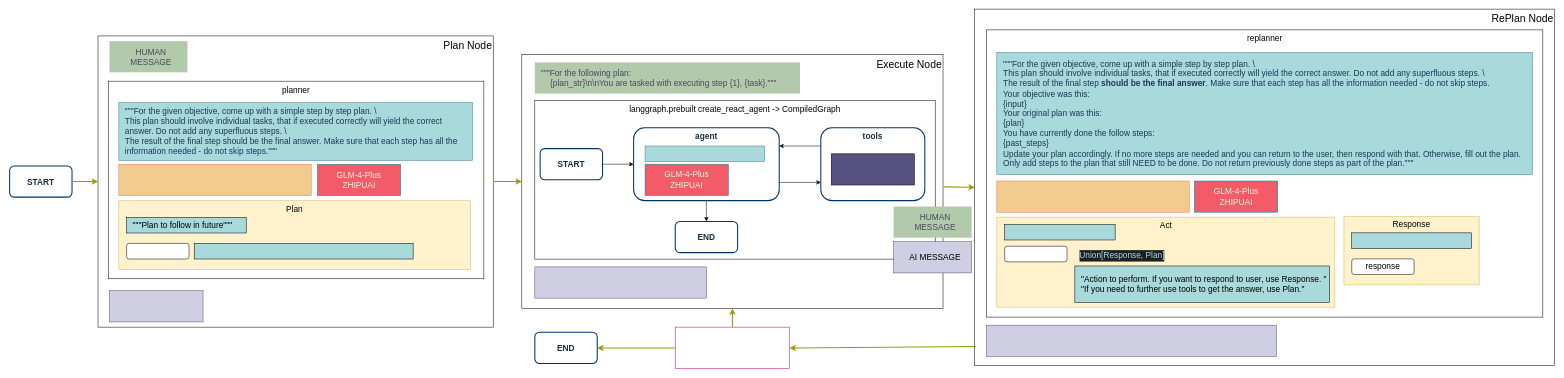
This 1564x378 diagram has some shape labels left out. The centre of each missing label's shape, as x and y in pixels:
"""Action to perform.""": point (1059, 232)
"""Response to user.""": point (1411, 240)
"past_steps": [(task, execute_result)]: point (620, 282)
action: point (1035, 254)
different steps to follow, should be in sorted order: point (303, 251)
prompt | llm.with_structured_output(Act): point (1092, 196)
prompt | llm.with_structured_output(Plan): point (214, 180)
Should end: point (732, 348)
steps: point (157, 251)
TavilySearch: point (872, 169)
You are a helpful assistant.: point (705, 153)
{"plan": plan.steps}: point (156, 306)
{"response": output.action.response} | {"plan": output.action.steps}: point (1131, 340)
